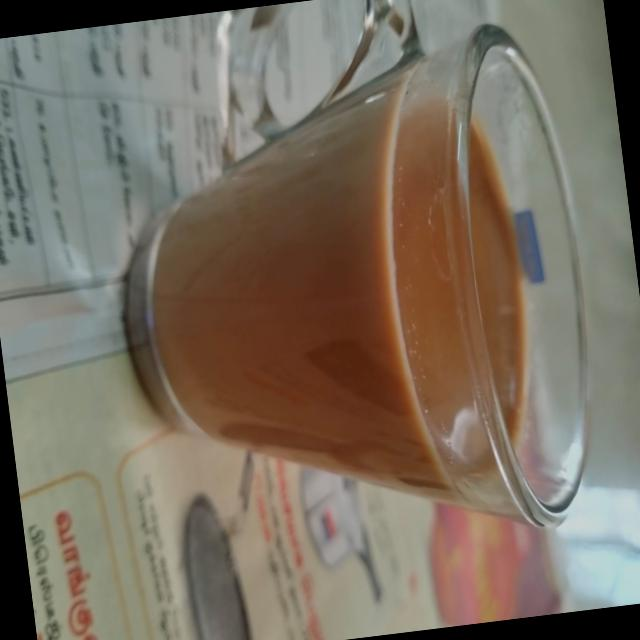glass-VX4N: (84, 0, 611, 564)
